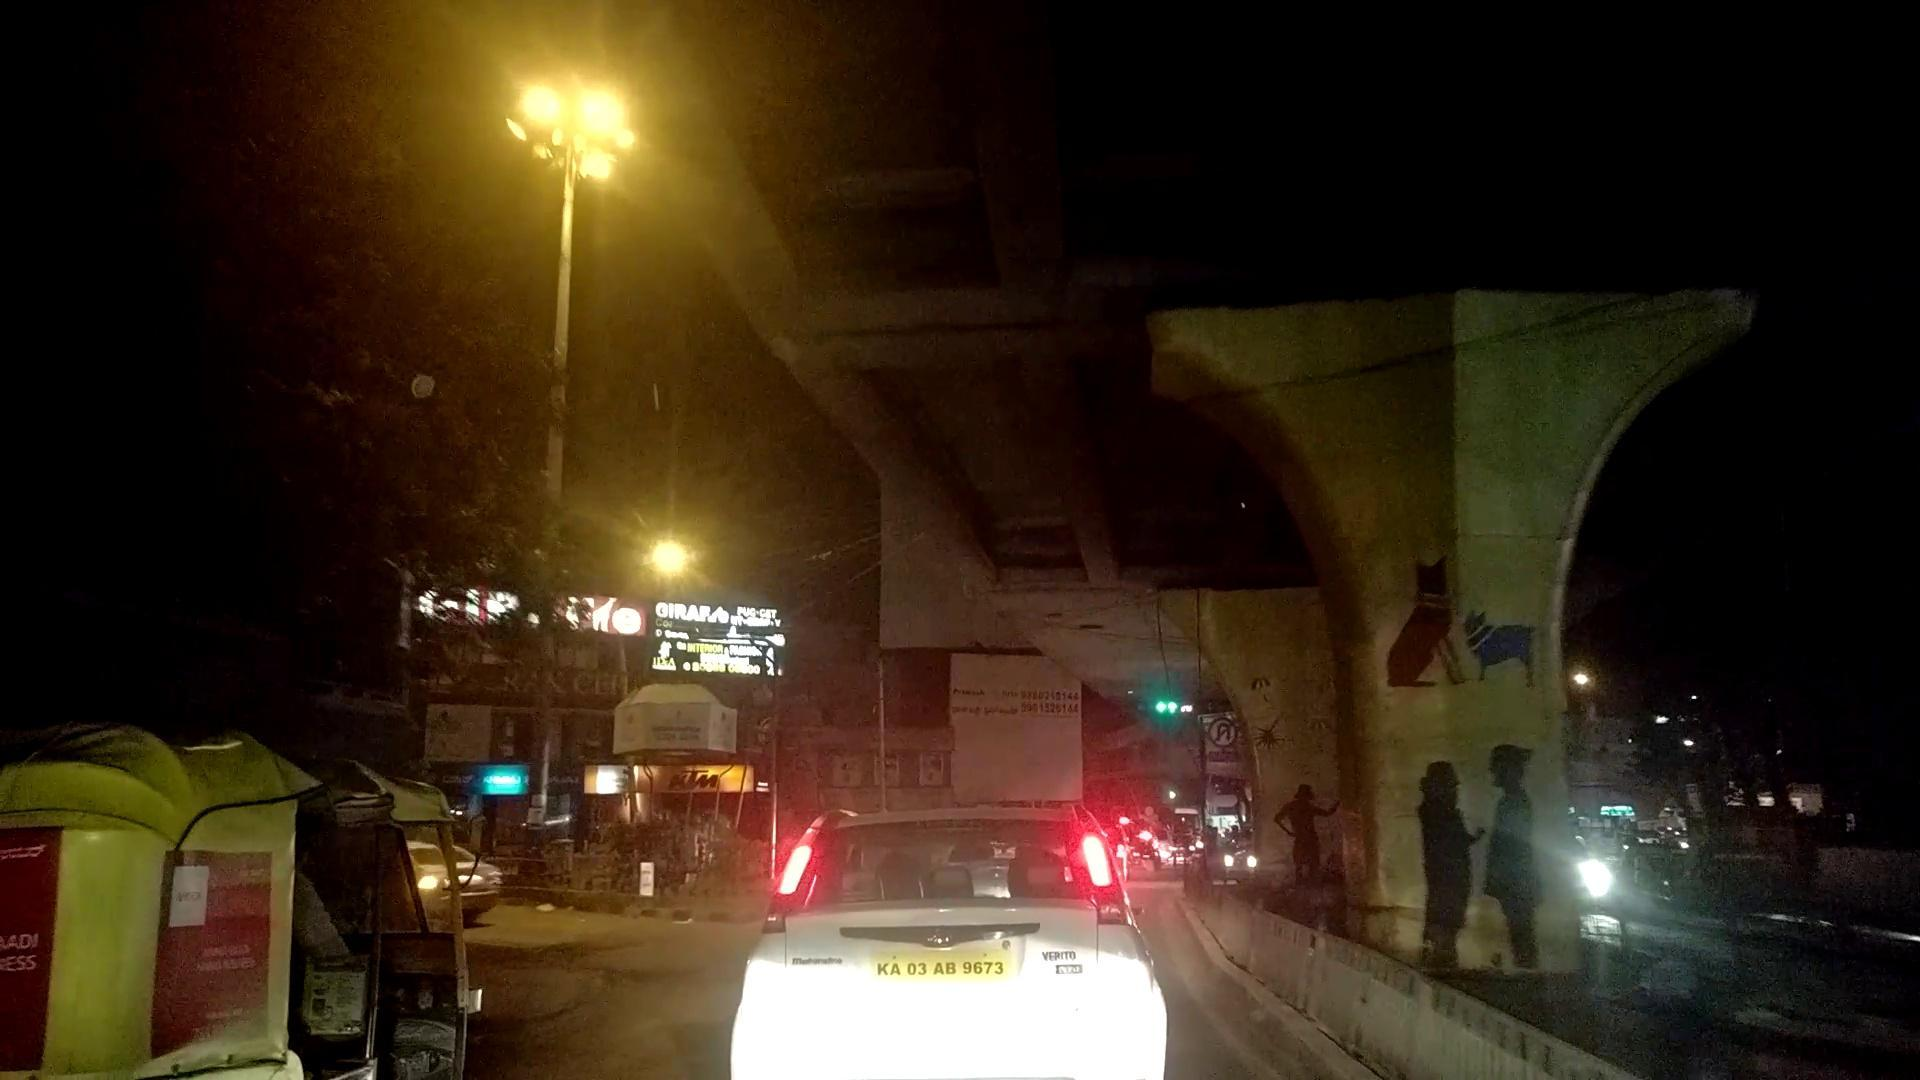on: (390, 32, 767, 331)
